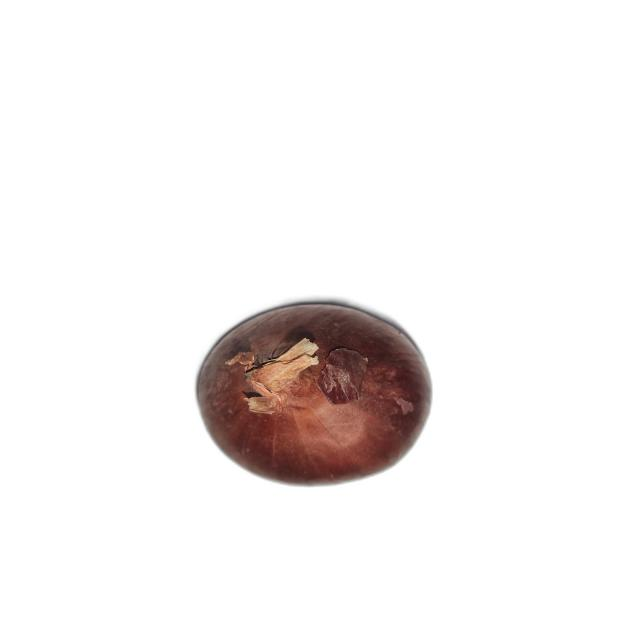onion: (195, 302, 433, 486)
